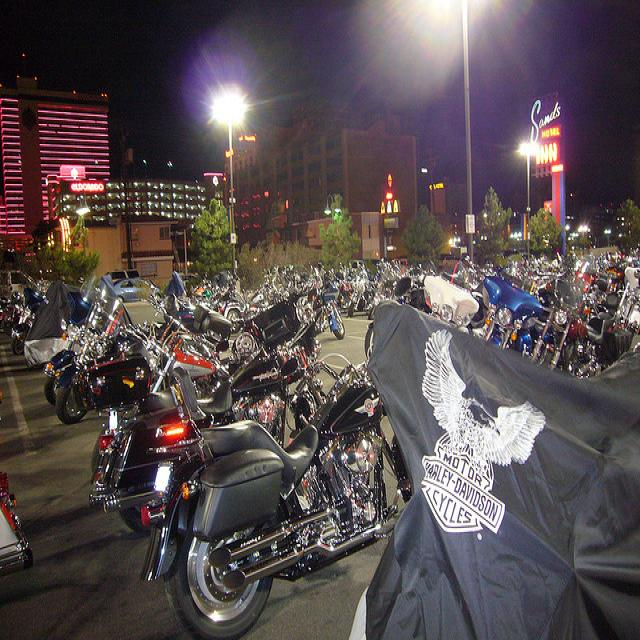motor: (142, 355, 414, 633), (74, 290, 324, 536), (55, 271, 159, 427), (121, 295, 253, 400), (43, 274, 107, 410), (472, 256, 544, 356), (532, 276, 597, 378), (416, 274, 488, 335), (11, 280, 50, 355), (301, 276, 345, 341), (379, 278, 425, 311), (1, 287, 30, 333), (346, 272, 371, 318)
